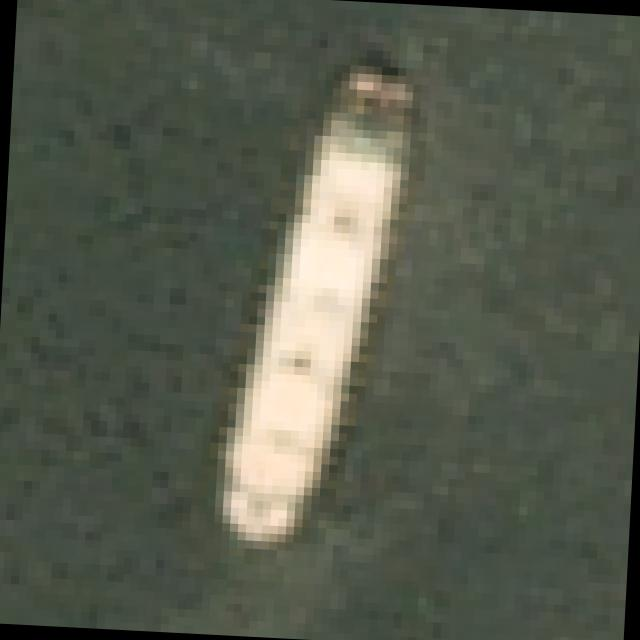ship: (121, 24, 498, 608)
